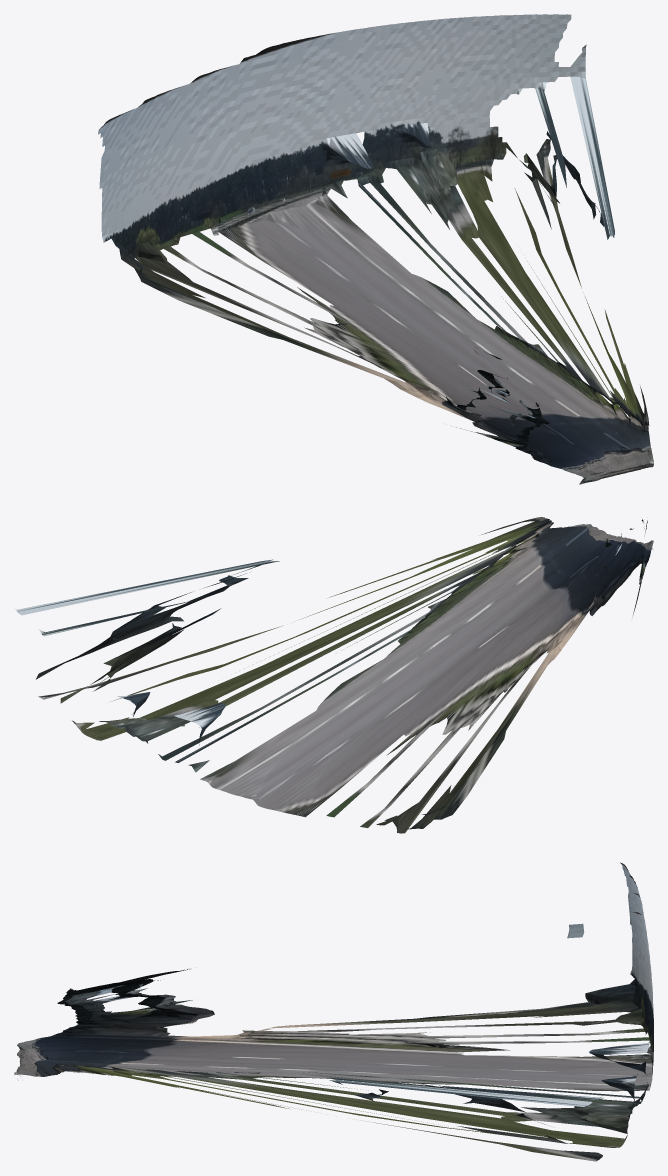
The picture shows the model from 3 angles, top to bottom: view 1: azimuth 30°, elevation 25°; view 2: azimuth 150°, elevation 25°; view 3: azimuth 270°, elevation 25°; orthographic projection. The views are drawn at different scales.
Parts seen in each view (by area): view 1: defaultobject; view 2: defaultobject; view 3: defaultobject.
Part boxes in pixels (x1,y1,x2,y2): defaultobject: (98,14,653,484); defaultobject: (15,517,653,833); defaultobject: (14,862,653,1161).
Size of the model in its own units: 40.62 by 12.36 by 44.45.
1 material, 1 textured.
